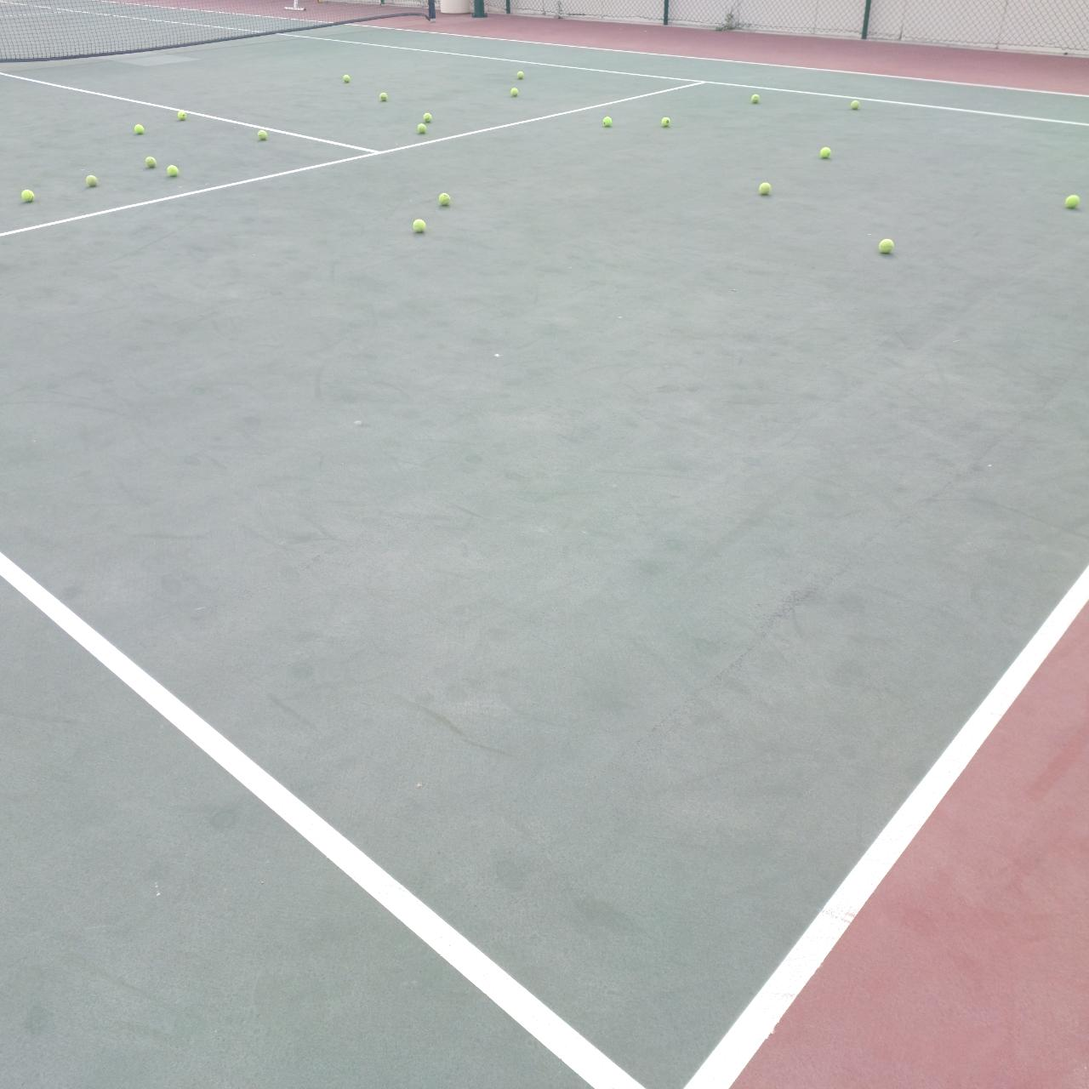tennis-ball: (879, 236, 896, 254), (1065, 192, 1082, 208), (413, 217, 427, 234), (759, 180, 773, 195), (819, 145, 834, 159), (167, 163, 180, 178), (86, 174, 99, 187), (22, 189, 34, 203), (133, 123, 145, 136), (438, 193, 451, 205), (145, 156, 157, 168), (257, 130, 268, 141), (416, 123, 427, 133), (850, 100, 860, 110), (423, 113, 433, 123), (177, 111, 187, 121), (751, 94, 760, 104), (661, 117, 670, 127), (603, 117, 612, 127), (511, 88, 519, 97), (516, 71, 524, 80), (379, 93, 388, 101), (343, 74, 351, 83)
